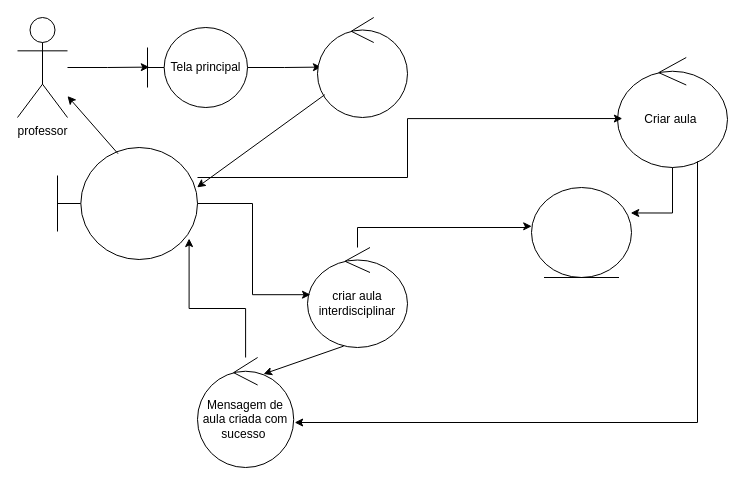
Image size: 745x485. Some labels were removed from this diagram. The centre of each missing label's shape, as x and y in pixels:
"Acessar tela de criação de aulas" goes at (362,67).
"Aulas" goes at (581,232).
"Tela de criação de aula" goes at (127,203).
